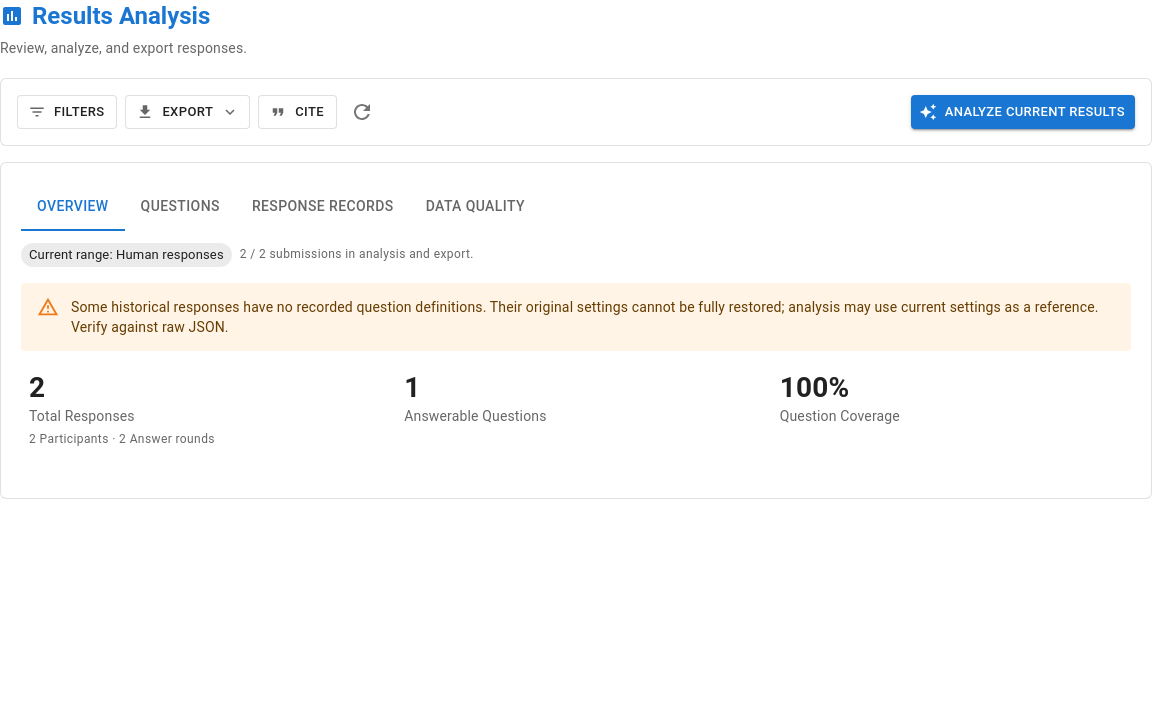
a custom task whose records rate several images on the same items gets a platform table before any model
Expected: the text "2 / 2 submissions in analysis and export." is shown, x1=240 y1=245 x2=474 y2=265
What coordinates should you click on to do the following:
click the tab "Questions"
I would click on:
 (180, 207)
Its box is x1=125 y1=183 x2=236 y2=231.
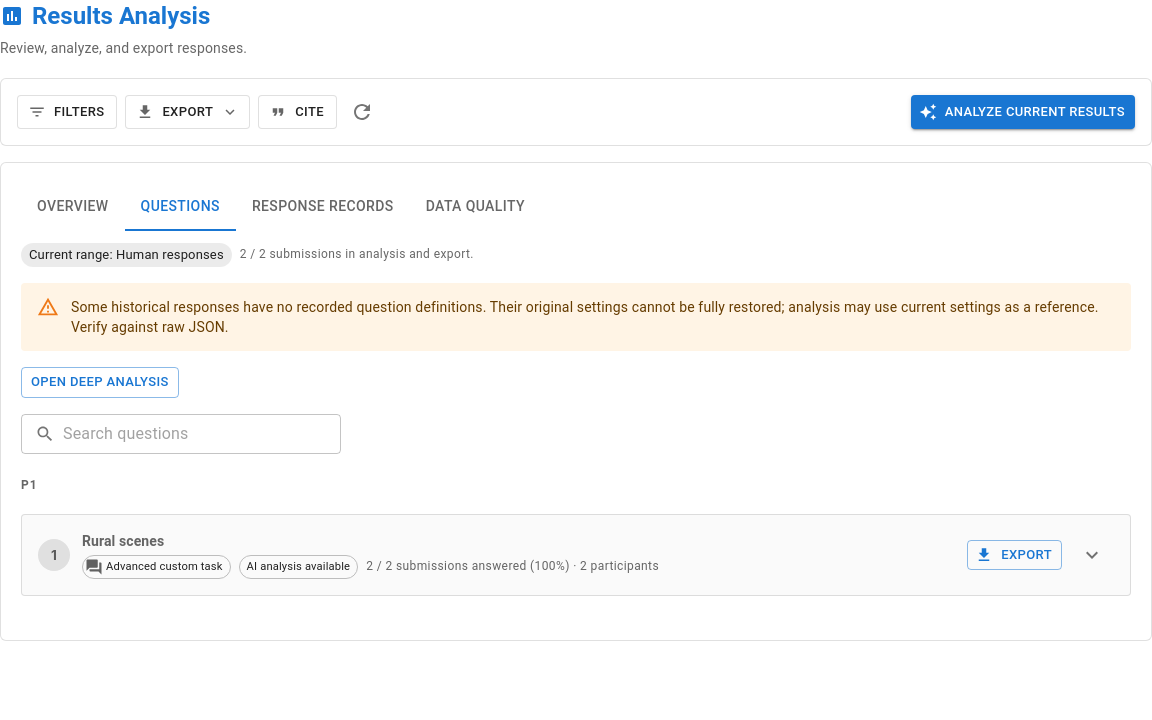
What coordinates should you click on to do the following:
click the button named "Expand analysis: task"
I would click on:
 (1092, 555)
Its box is x1=1070 y1=533 x2=1114 y2=577.
(page scrolled)
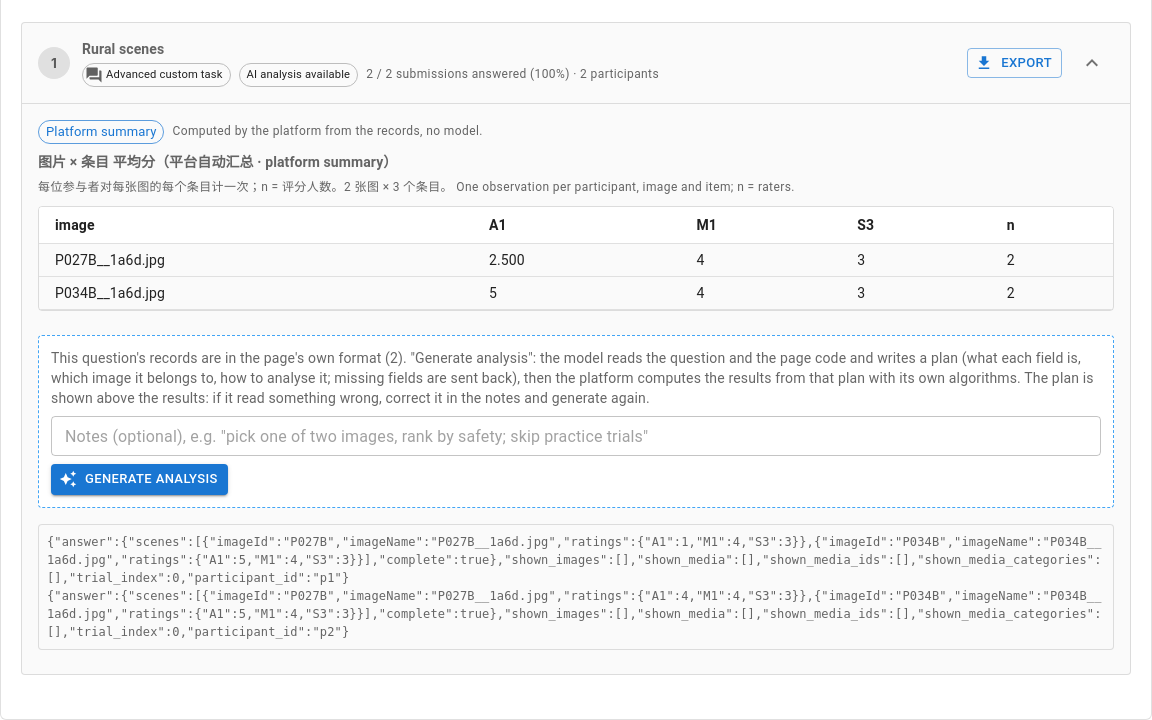
Expected: the column heading "A1" is shown, x1=473 y1=207 x2=680 y2=244
Expected: the text "2.500" is shown, x1=473 y1=244 x2=680 y2=277
Expected: the text "2" in the row of "2.500" is shown, x1=1007 y1=252 x2=1015 y2=268
